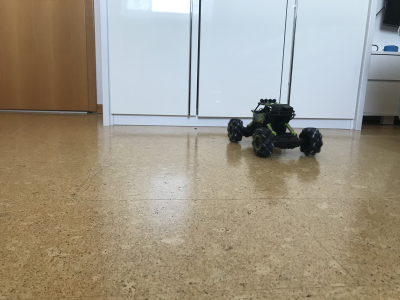remote control car: (226, 97, 325, 159)
